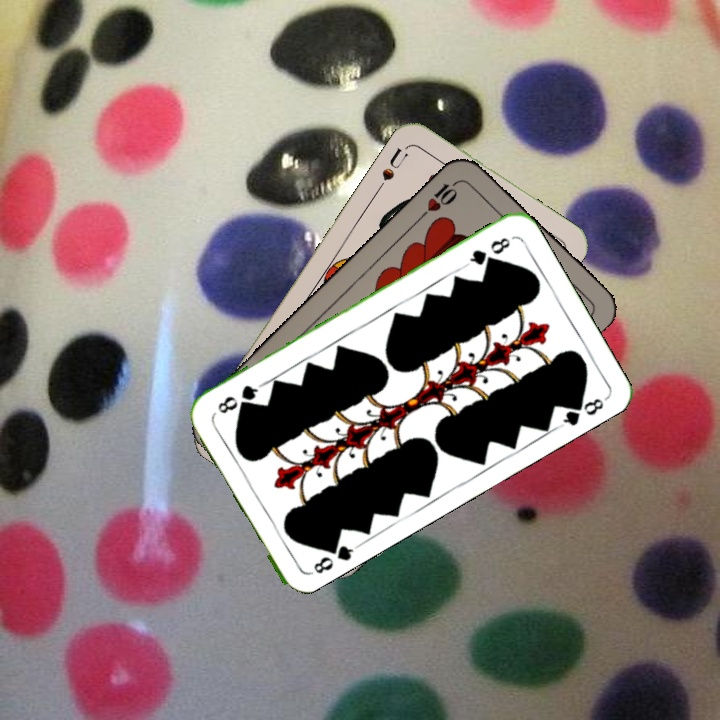G8: (305, 535, 360, 578), (461, 233, 513, 269)
H10: (416, 175, 464, 221)
SU: (373, 143, 411, 194)
